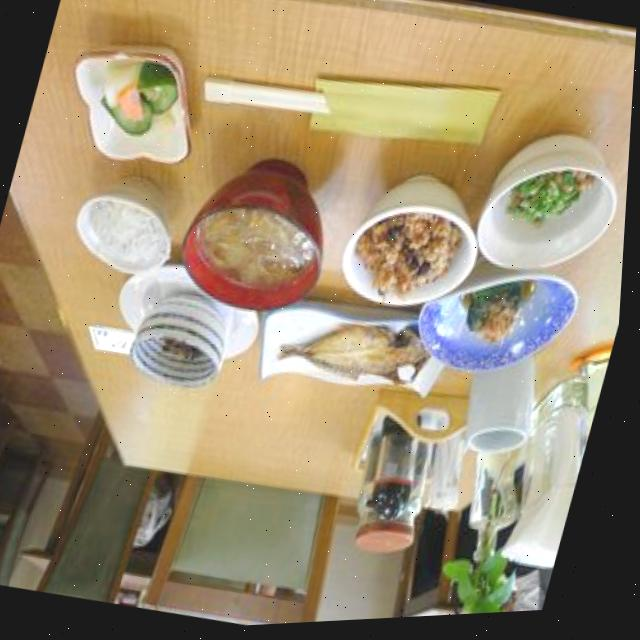米饭主食: (81, 192, 176, 283)
